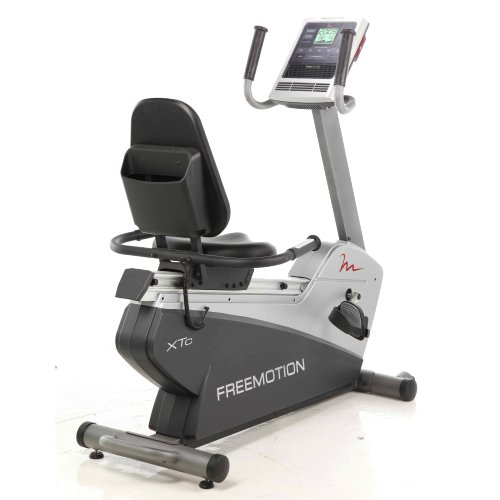gym_bike: (81, 15, 422, 488)
